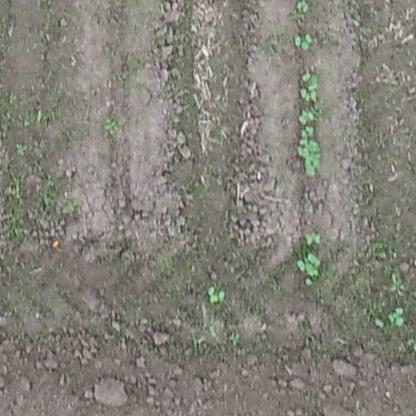vc: (299, 125, 323, 177), (295, 249, 323, 276), (299, 70, 321, 101), (205, 283, 230, 305), (387, 303, 406, 329), (302, 228, 322, 246), (293, 32, 314, 49), (298, 106, 316, 125), (296, 2, 312, 15), (372, 315, 385, 328)
